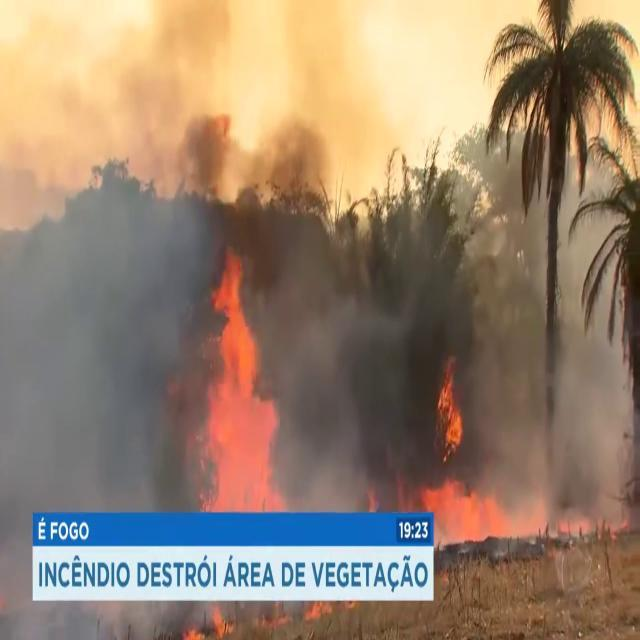Fire: (188, 244, 290, 512), (429, 465, 613, 550), (433, 353, 467, 462)
Smoke: (0, 20, 202, 525), (1, 1, 384, 248), (498, 166, 640, 526), (269, 243, 429, 492)
